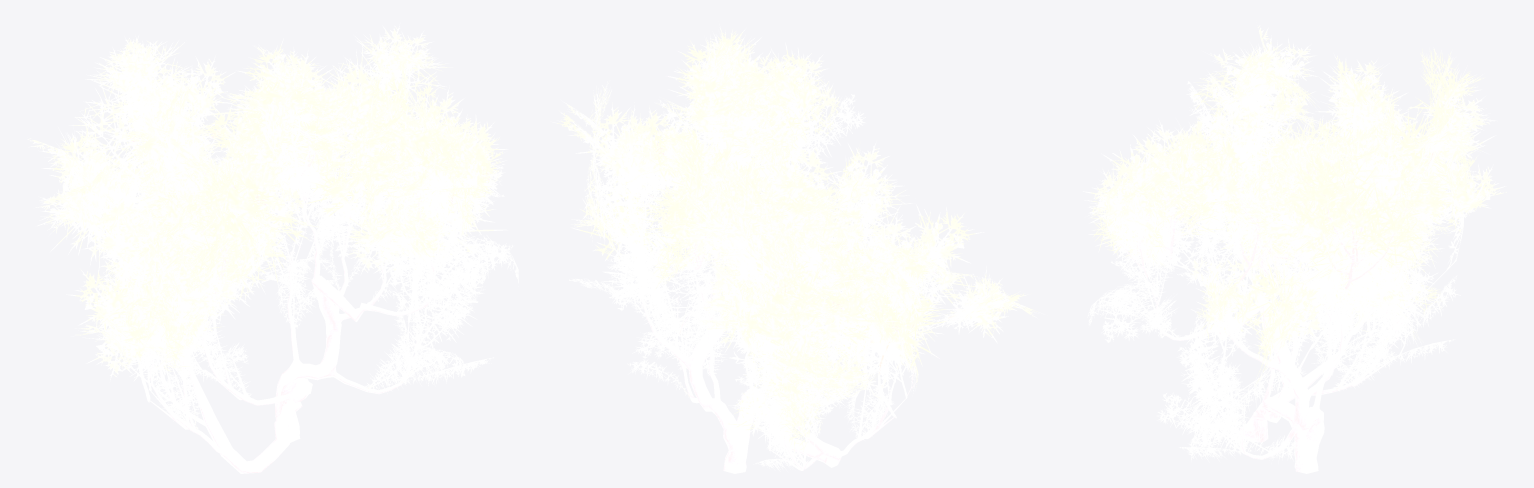
3 renders of one model, left to right at view 1: azimuth 30°, elevation 25°; view 2: azimuth 150°, elevation 25°; view 3: azimuth 270°, elevation 25°, orthographic. The views are drawn at different scales.
Visible parts, largest first — view 1: SM_WoodlandGorse_02_LOD0; view 2: SM_WoodlandGorse_02_LOD0; view 3: SM_WoodlandGorse_02_LOD0.
Boxes of the visible parts, x1=… form: SM_WoodlandGorse_02_LOD0: x1=27, y1=23, x2=518, y2=473; SM_WoodlandGorse_02_LOD0: x1=550, y1=24, x2=1044, y2=473; SM_WoodlandGorse_02_LOD0: x1=1083, y1=25, x2=1506, y2=473.
Size of the model in its own units: 2.55 by 2.26 by 2.08.
Materials: 1 (1 with a texture image).
